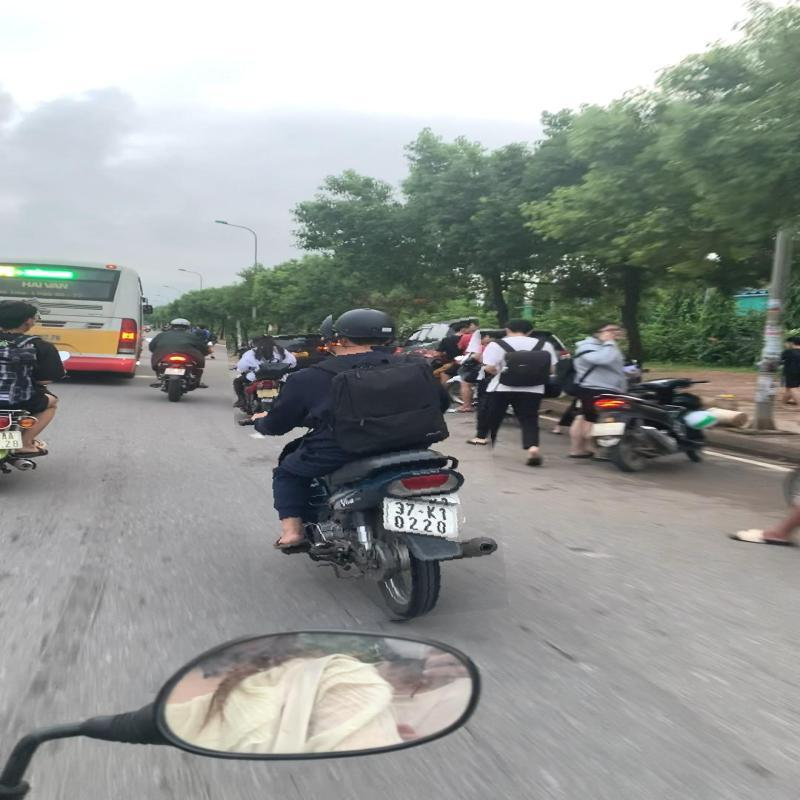helmet: (332, 307, 398, 346)
licenseplate: (377, 496, 464, 540)
motorcyclist: (232, 300, 502, 628)
nohelmet: (0, 299, 41, 334)
